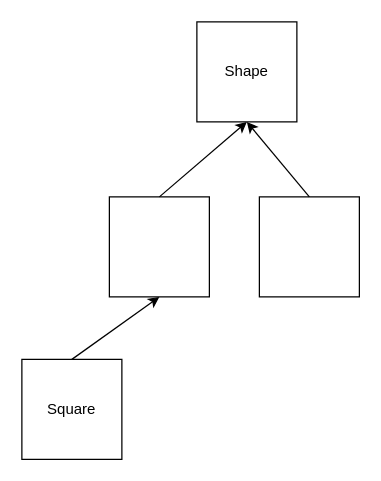
Some shapes in this 381 by 481 pixel diagram are drawn without their labels. The centre of each missing label's shape, as x and y in pixels:
"Rectangle" goes at (158,246).
"Triangle" goes at (308,246).
